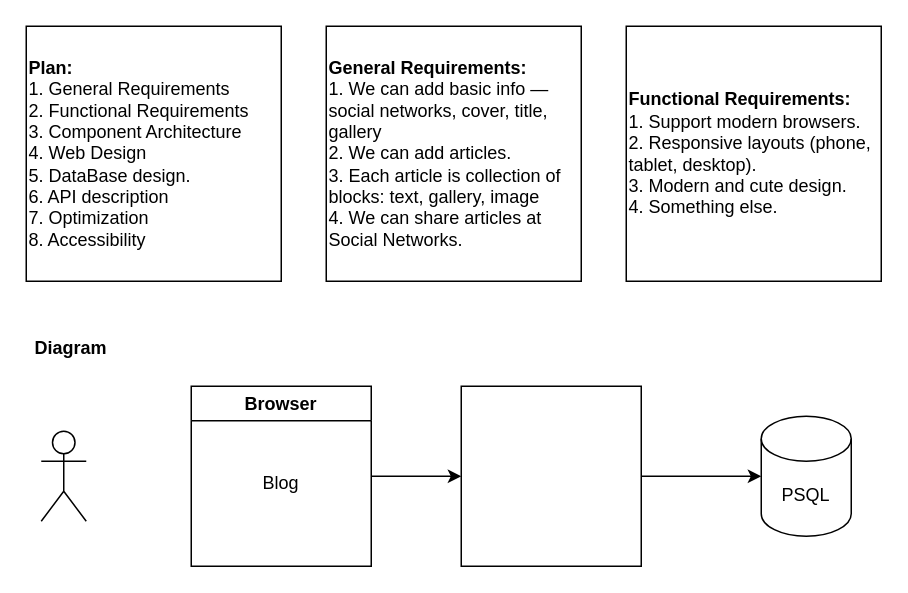
Some shapes in this 908 by 593 pixel diagram are drawn without their labels. The centre of each missing label's shape, as x and y in pixels:
"Actor" belongs at [63,475].
"BackEnd (NodeJS Server)" belongs at [550,475].
